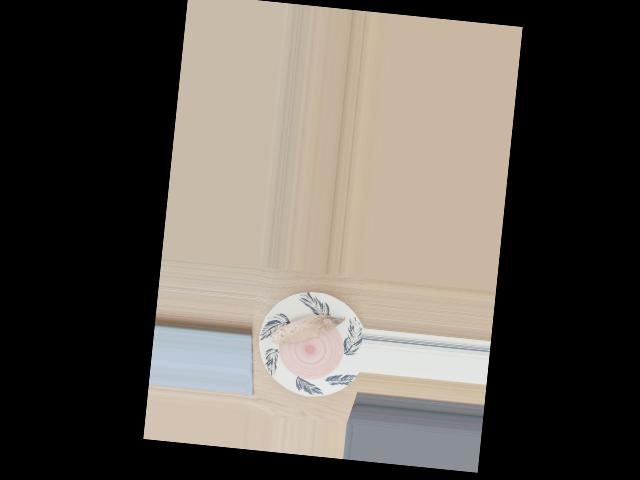sweet_potato: (275, 309, 338, 352)
